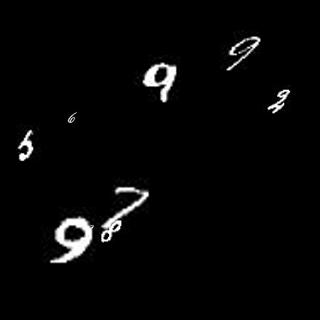eight: (102, 221, 125, 243)
five: (15, 129, 37, 163)
nine: (50, 215, 95, 266), (142, 59, 187, 105), (226, 31, 265, 73)
seven: (102, 183, 152, 227)
six: (66, 109, 80, 127)
two: (266, 87, 291, 108)
